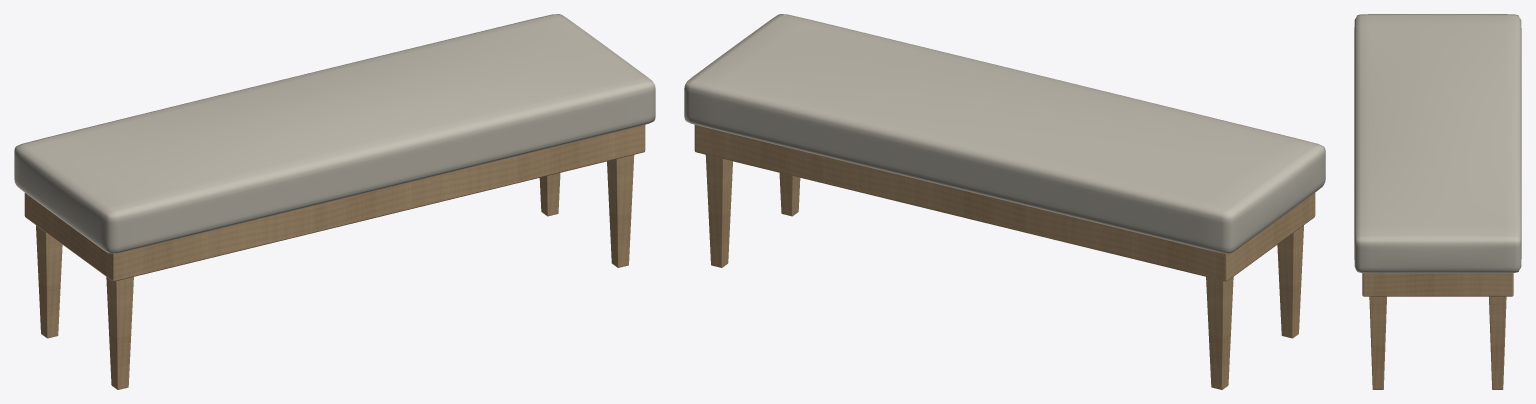
File: guest_bench.gltf
3 renders of one model, left to right at view 1: azimuth 30°, elevation 25°; view 2: azimuth 150°, elevation 25°; view 3: azimuth 270°, elevation 25°, orthographic. The views are drawn at different scales.
Visible parts, largest first — view 1: GuestBench_Cushion, GuestBench_Frame, GuestBench_Leg_FL, GuestBench_Leg_FR, GuestBench_Leg_BL, GuestBench_Leg_BR; view 2: GuestBench_Cushion, GuestBench_Frame, GuestBench_Leg_BL, GuestBench_Leg_BR, GuestBench_Leg_FL, GuestBench_Leg_FR; view 3: GuestBench_Cushion, GuestBench_Frame, GuestBench_Leg_BR, GuestBench_Leg_FR.
Boxes of the visible parts, left/top/right/bottom form: GuestBench_Cushion: left=14, top=14, right=655, bottom=253; GuestBench_Frame: left=24, top=125, right=645, bottom=281; GuestBench_Leg_FL: left=106, top=277, right=133, bottom=389; GuestBench_Leg_FR: left=607, top=155, right=634, bottom=267; GuestBench_Leg_BL: left=36, top=225, right=62, bottom=338; GuestBench_Leg_BR: left=539, top=173, right=560, bottom=216; GuestBench_Cushion: left=684, top=14, right=1325, bottom=253; GuestBench_Frame: left=694, top=125, right=1315, bottom=281; GuestBench_Leg_BL: left=1206, top=277, right=1233, bottom=389; GuestBench_Leg_BR: left=705, top=155, right=732, bottom=267; GuestBench_Leg_FL: left=1277, top=225, right=1303, bottom=338; GuestBench_Leg_FR: left=779, top=173, right=800, bottom=216; GuestBench_Cushion: left=1354, top=14, right=1521, bottom=273; GuestBench_Frame: left=1362, top=273, right=1513, bottom=296; GuestBench_Leg_BR: left=1489, top=296, right=1506, bottom=389; GuestBench_Leg_FR: left=1369, top=296, right=1386, bottom=389.
Bounding box in the file's own units: 1.36 × 0.4556 × 0.42.
2 materials, 1 textured.
